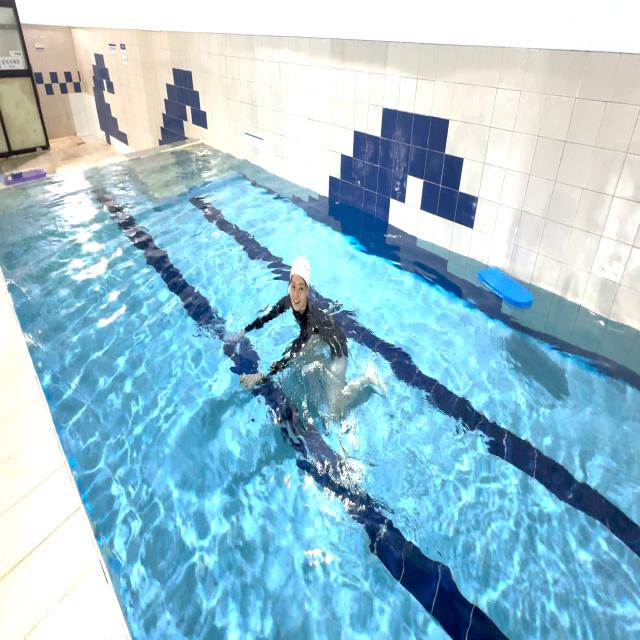Swimming: (236, 252, 384, 430)
